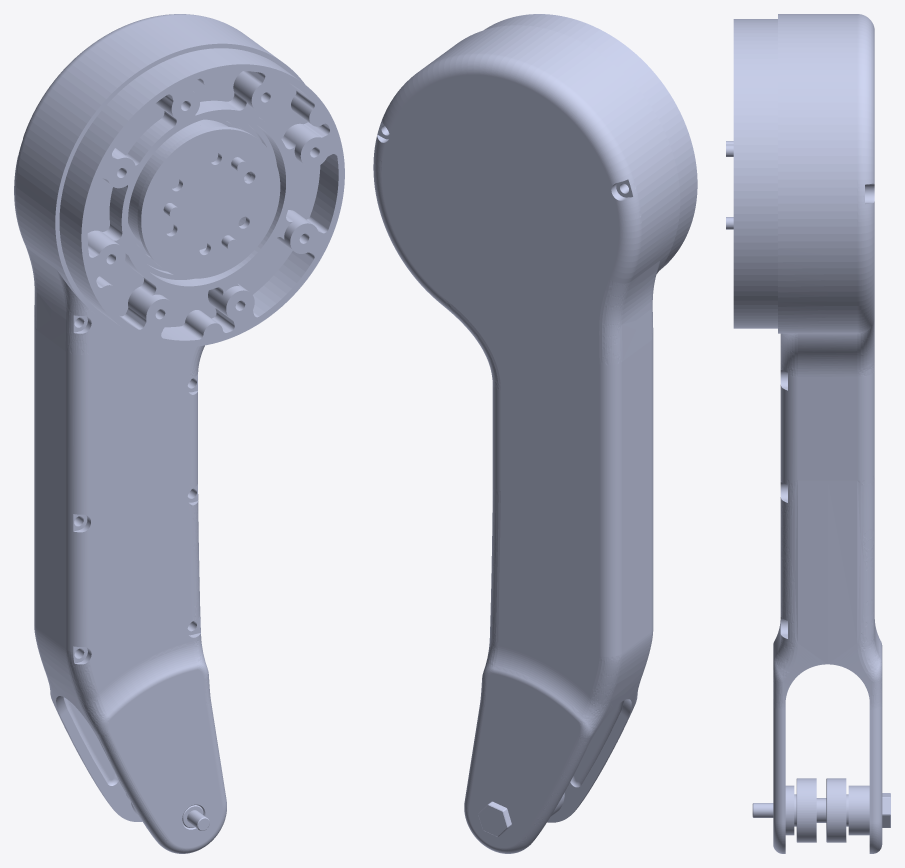
Rendered from thigh.dae.
The picture shows the model from 3 angles, left to right: view 1: azimuth 30°, elevation 25°; view 2: azimuth 150°, elevation 25°; view 3: azimuth 270°, elevation 25°; orthographic projection. The views are drawn at different scales.
Visible parts, largest first — view 1: node_9e36a3ad_4e95_415a_ac31_9b8f5fbcc2f0_mesh1, node_9e36a3ad_4e95_415a_ac31_9b8f5fbcc2f0_mesh0; view 2: node_9e36a3ad_4e95_415a_ac31_9b8f5fbcc2f0_mesh0, node_9e36a3ad_4e95_415a_ac31_9b8f5fbcc2f0_mesh1; view 3: node_9e36a3ad_4e95_415a_ac31_9b8f5fbcc2f0_mesh0, node_9e36a3ad_4e95_415a_ac31_9b8f5fbcc2f0_mesh1.
Part boxes in pixels (x1=…): node_9e36a3ad_4e95_415a_ac31_9b8f5fbcc2f0_mesh1: x1=14, y1=26, x2=338, y2=853; node_9e36a3ad_4e95_415a_ac31_9b8f5fbcc2f0_mesh0: x1=14, y1=14, x2=344, y2=845; node_9e36a3ad_4e95_415a_ac31_9b8f5fbcc2f0_mesh0: x1=373, y1=14, x2=680, y2=853; node_9e36a3ad_4e95_415a_ac31_9b8f5fbcc2f0_mesh1: x1=377, y1=25, x2=697, y2=847; node_9e36a3ad_4e95_415a_ac31_9b8f5fbcc2f0_mesh0: x1=726, y1=14, x2=890, y2=853; node_9e36a3ad_4e95_415a_ac31_9b8f5fbcc2f0_mesh1: x1=726, y1=14, x2=890, y2=853.
Bounding box in the file's own units: 129 × 66.5 × 366.
